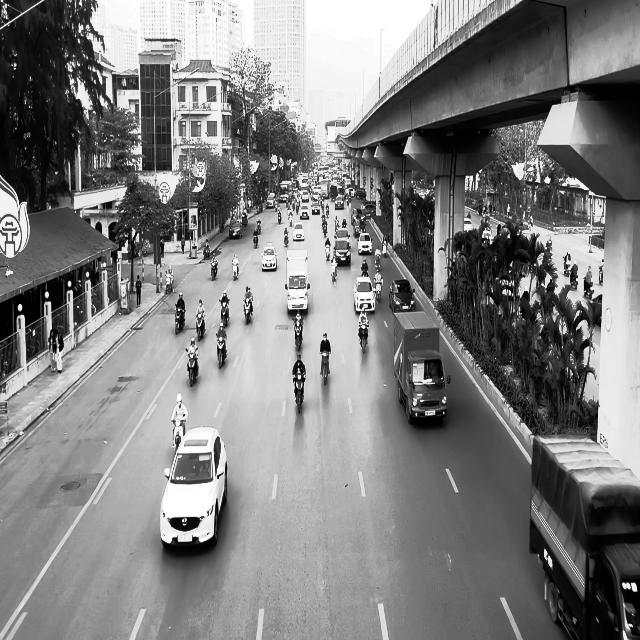car: (160, 425, 228, 550), (389, 278, 415, 313), (353, 276, 375, 313), (261, 244, 277, 271), (358, 232, 372, 255), (229, 220, 242, 239), (292, 222, 304, 241)
motorbike: (185, 348, 198, 386), (293, 374, 305, 415), (172, 417, 186, 452), (216, 334, 227, 368), (358, 321, 369, 353), (320, 350, 330, 385), (174, 305, 186, 334), (293, 319, 303, 350), (243, 295, 253, 324), (219, 298, 229, 327), (373, 277, 382, 303), (196, 314, 205, 340), (331, 255, 338, 283), (210, 256, 218, 280), (569, 270, 578, 289), (232, 260, 239, 280), (325, 238, 331, 260), (252, 228, 258, 248), (284, 229, 288, 246)
truck: (528, 433, 640, 640), (393, 310, 450, 424), (285, 249, 310, 315)
